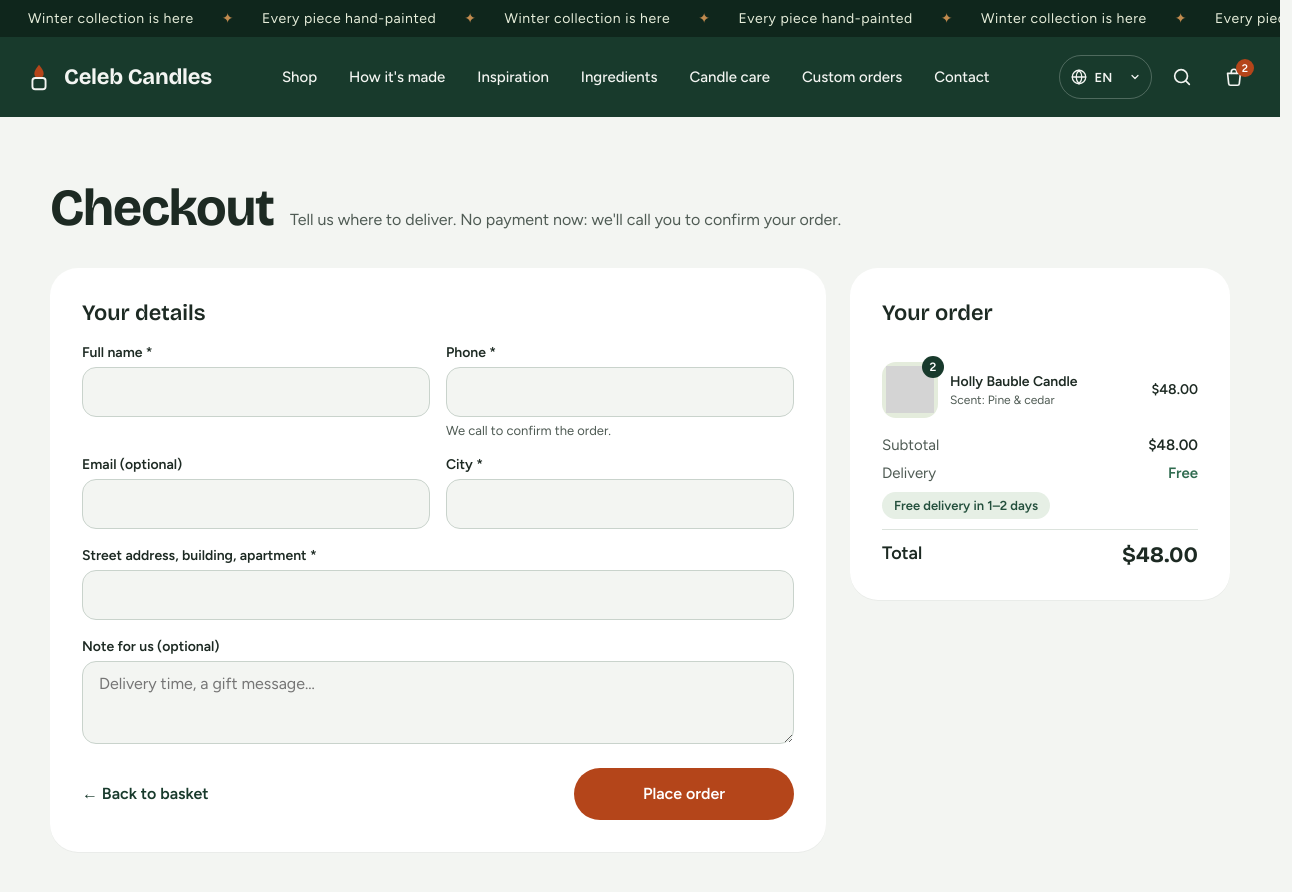
Test case: Checkout › checks the required fields before sending
Expected: the heading "Checkout" is shown, [50,181,274,236]
Expected: the text "Holly Bauble Candle" is shown, [950,372,1078,390]
Type "abc" into the field labelled "Phone *" at (620, 392), box [446,367,794,417]
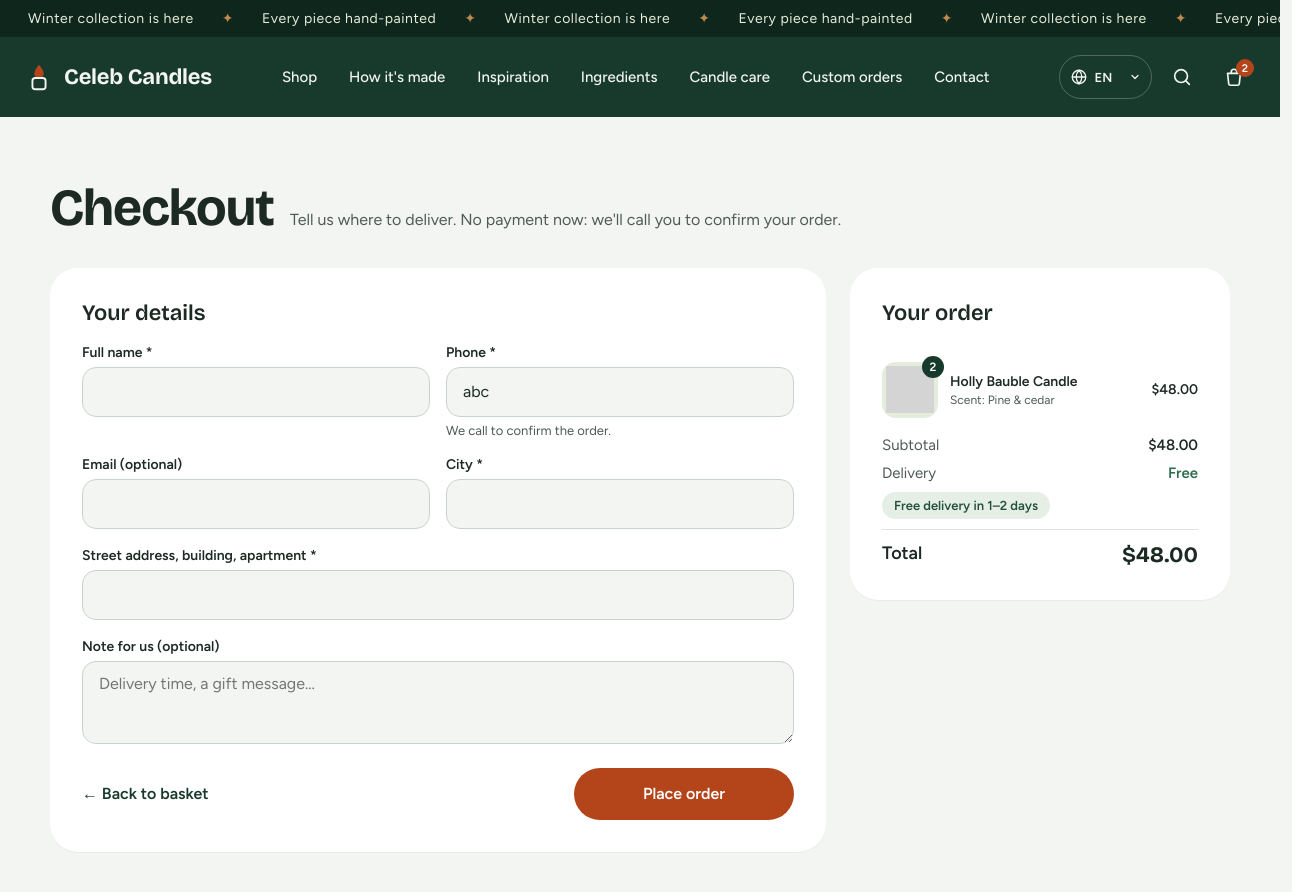
Click the button "Place order" at (684, 794), box [574,768,794,820]
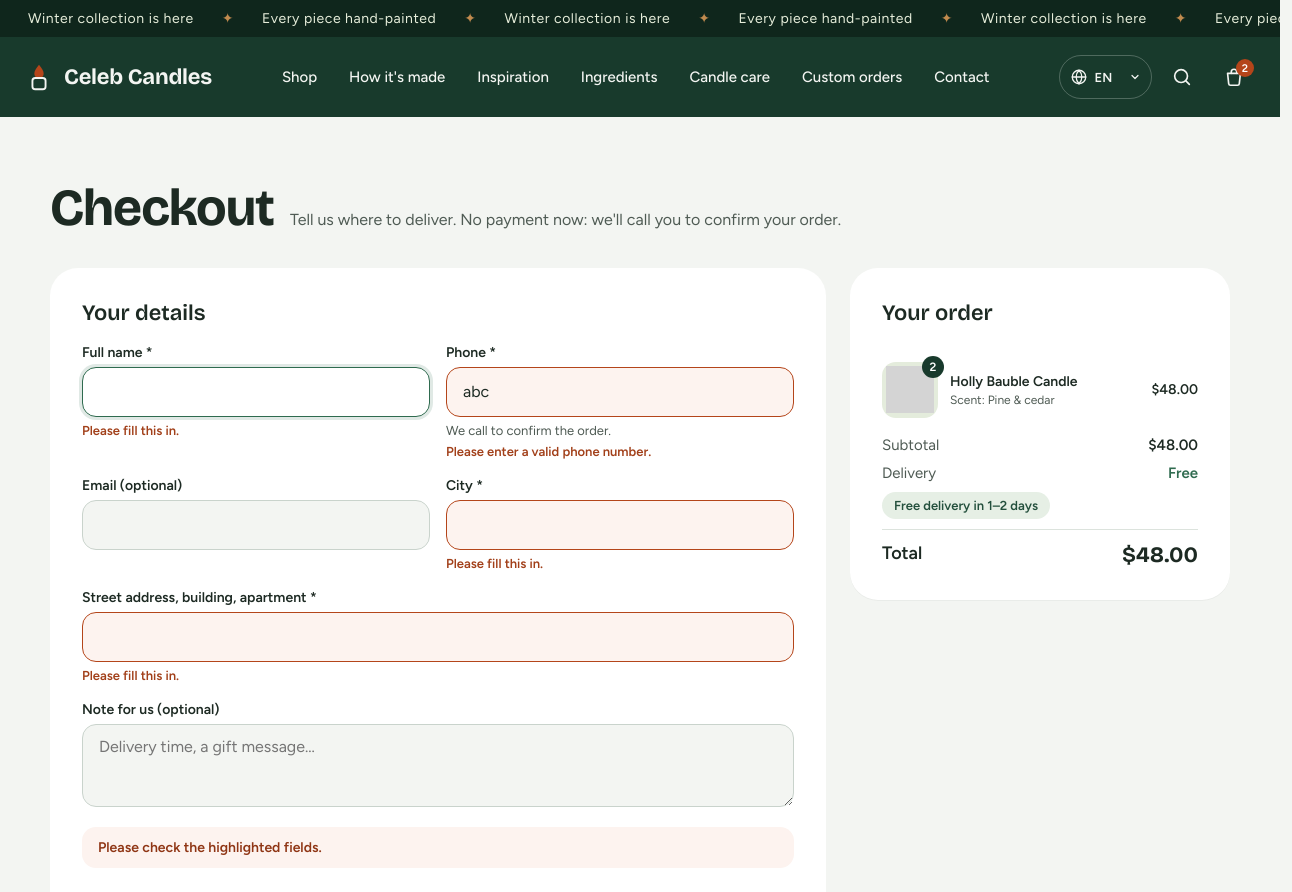
Expected: the message reads "Please check the highlighted fields.", [98,839,322,856]
Expected: the text "Please enter a valid phone number." is shown, [446,444,651,459]
